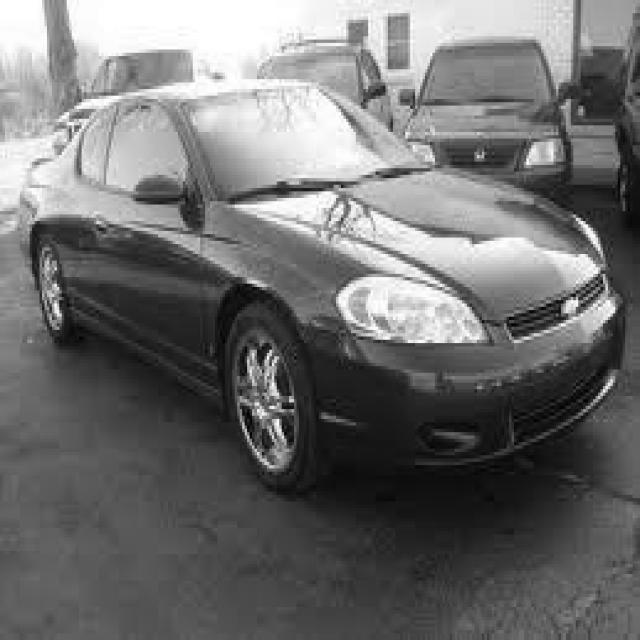car: (17, 72, 625, 495), (403, 33, 583, 198), (49, 46, 235, 155), (254, 36, 393, 132), (610, 3, 638, 228)
